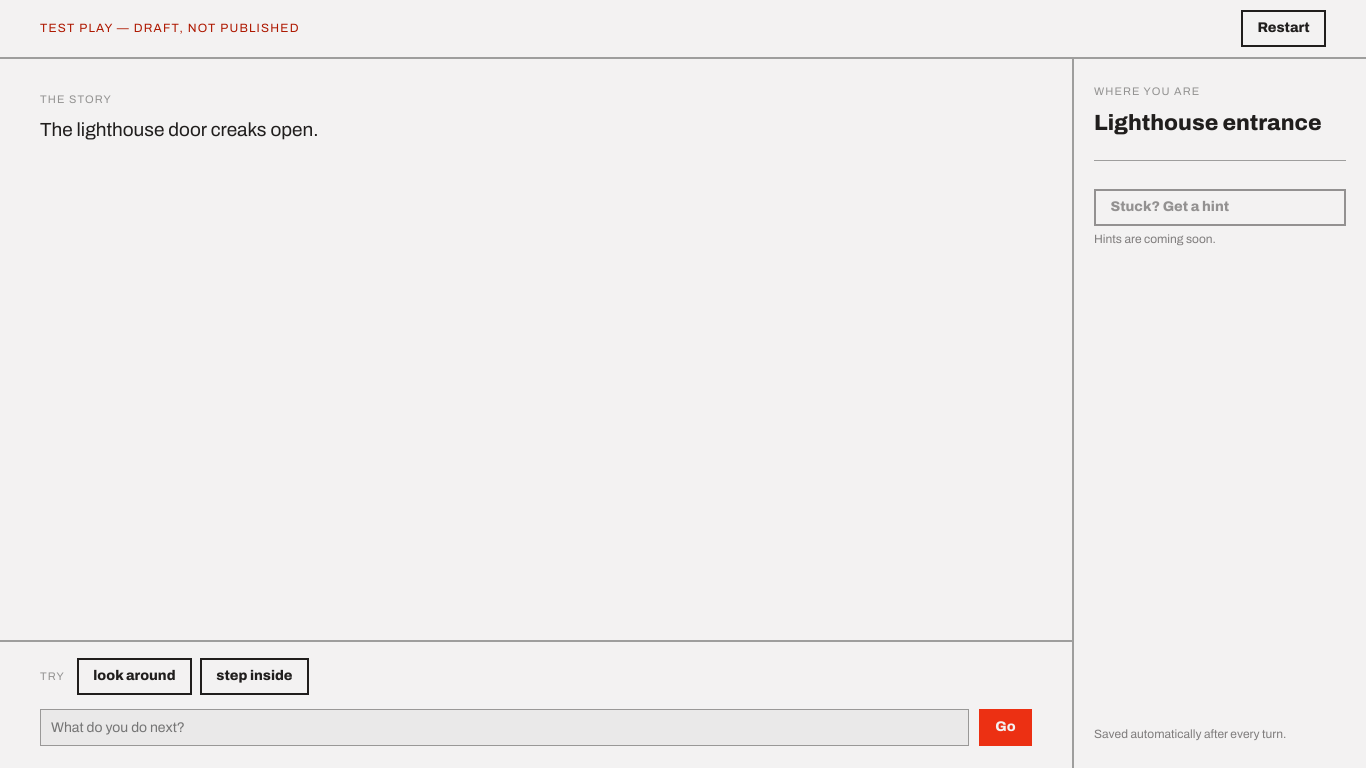
Test: Admin test-play conclusion flow (010-story-test-play-done FR-006, FR-007, FR-008) › a blocked publish stays on the conclusion screen with an explanation (edge case)
This screenshot has width=1366, height=768.
Check: the text "The lighthouse door creaks open." is shown, box [40, 119, 318, 140]
In the field labelled "What do you do next?": (504, 728) [40, 709, 969, 746], type "search for the keeper"
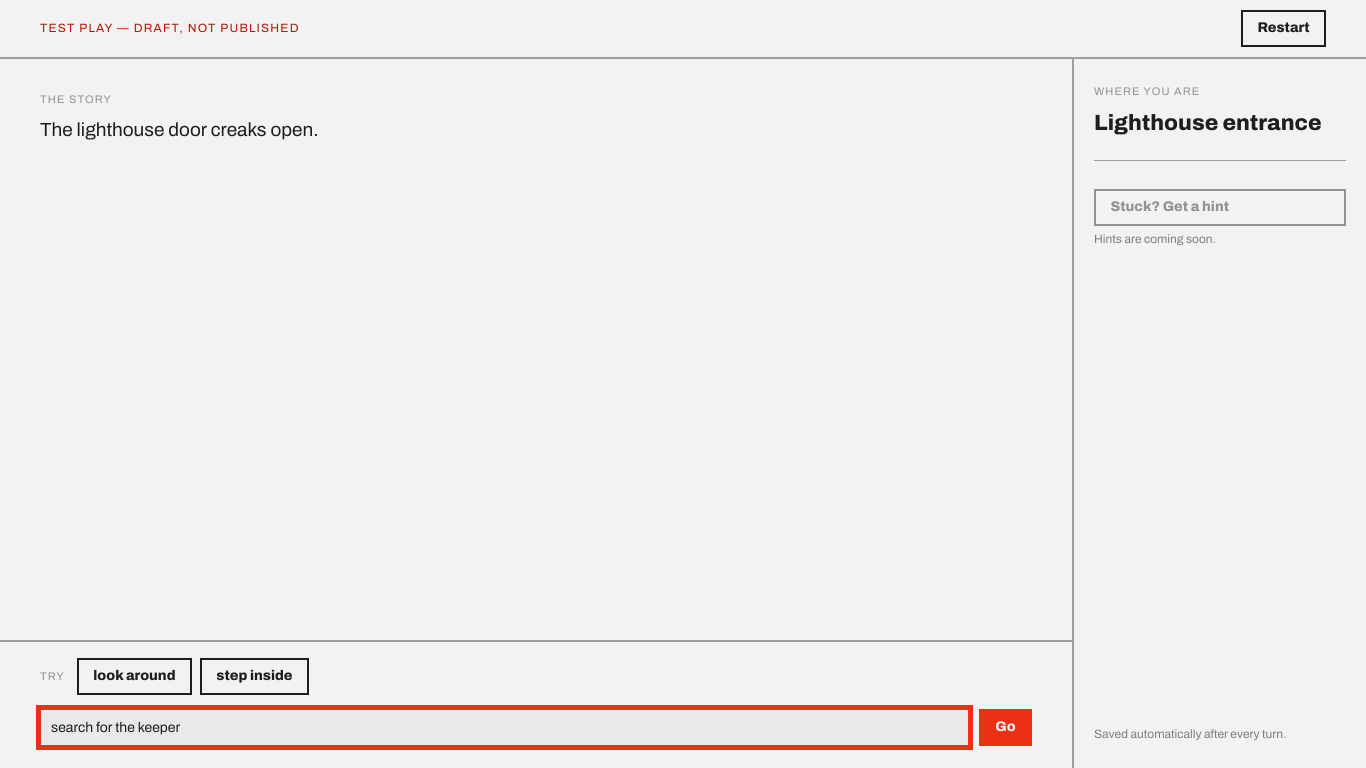
Click the button "Go": (1005, 728) [979, 709, 1032, 746]
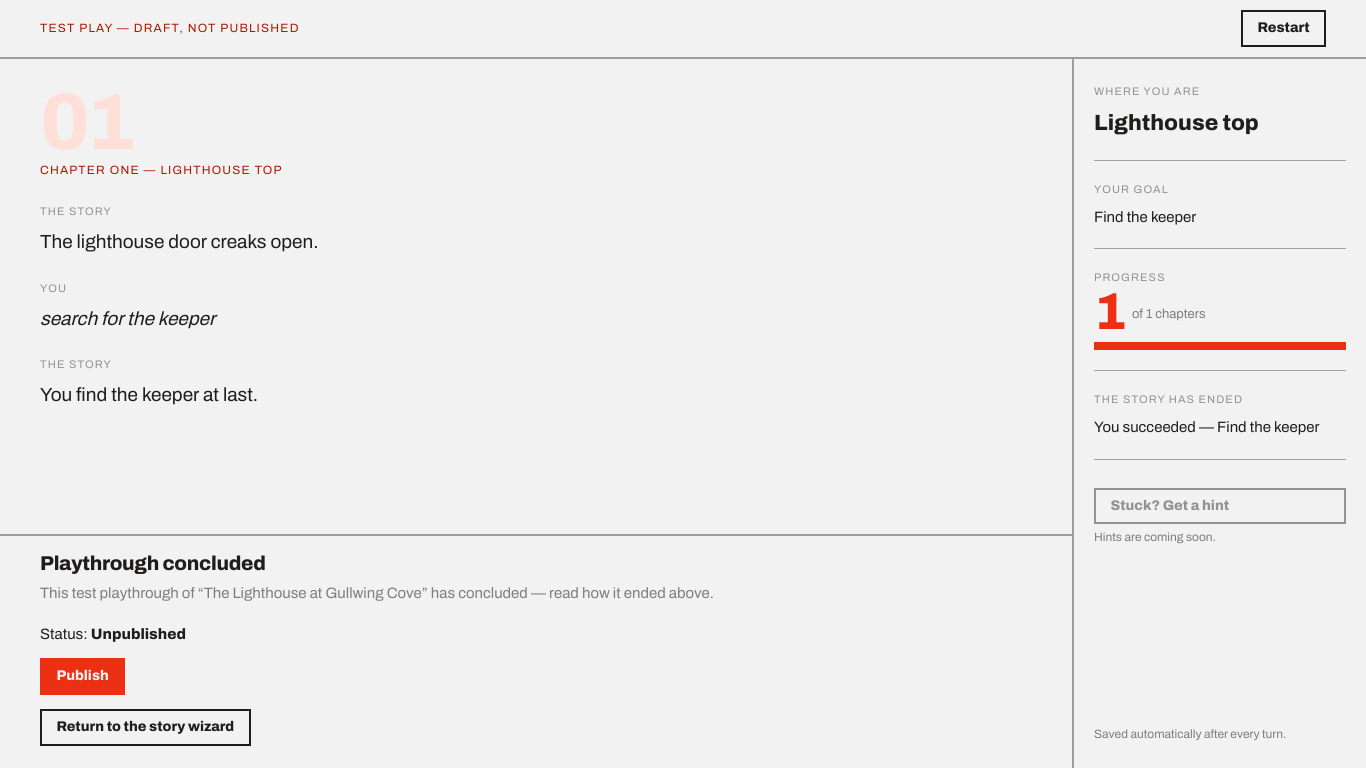
Check: the heading "Playthrough concluded" is shown, box [40, 552, 266, 574]
Click the button "Publish": (83, 677) [40, 658, 125, 695]
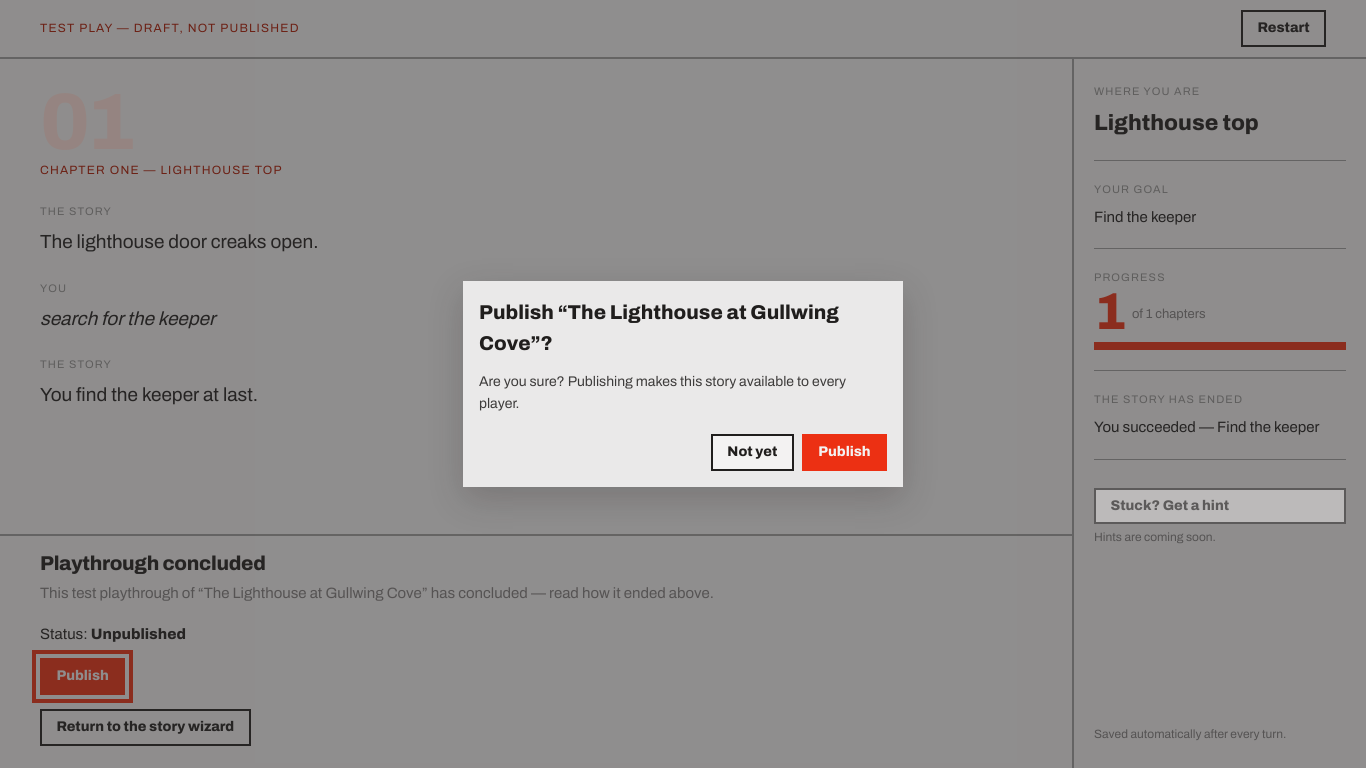
Click the button "Publish" below "Publish “": (844, 453) [802, 434, 887, 471]
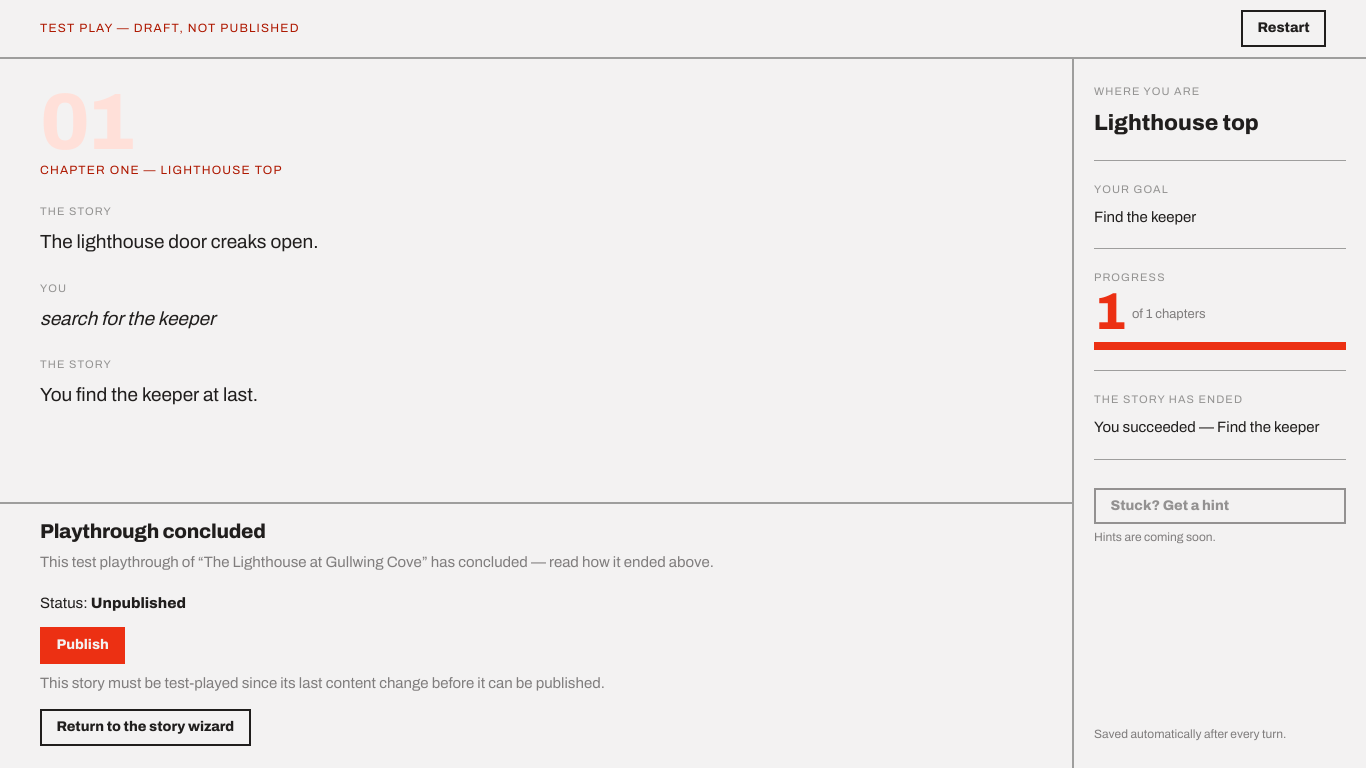
Check: the heading "Playthrough concluded" is shown, box [40, 520, 266, 542]
Check: the text "must be test-played" is shown, box [40, 675, 605, 691]
